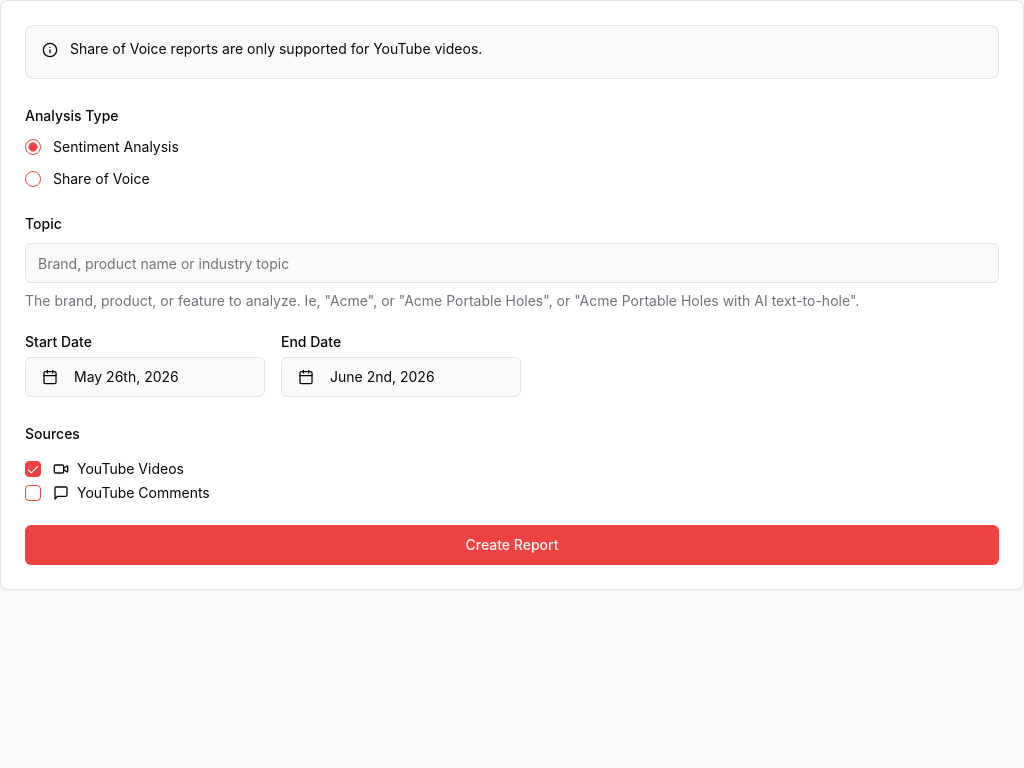
Test: CreateReportForm › should disable non-YouTube Video sources when Share of Voice is selected
Click the 2nd radio button named "Share of Voice" at (33, 179), box [25,171,41,187]
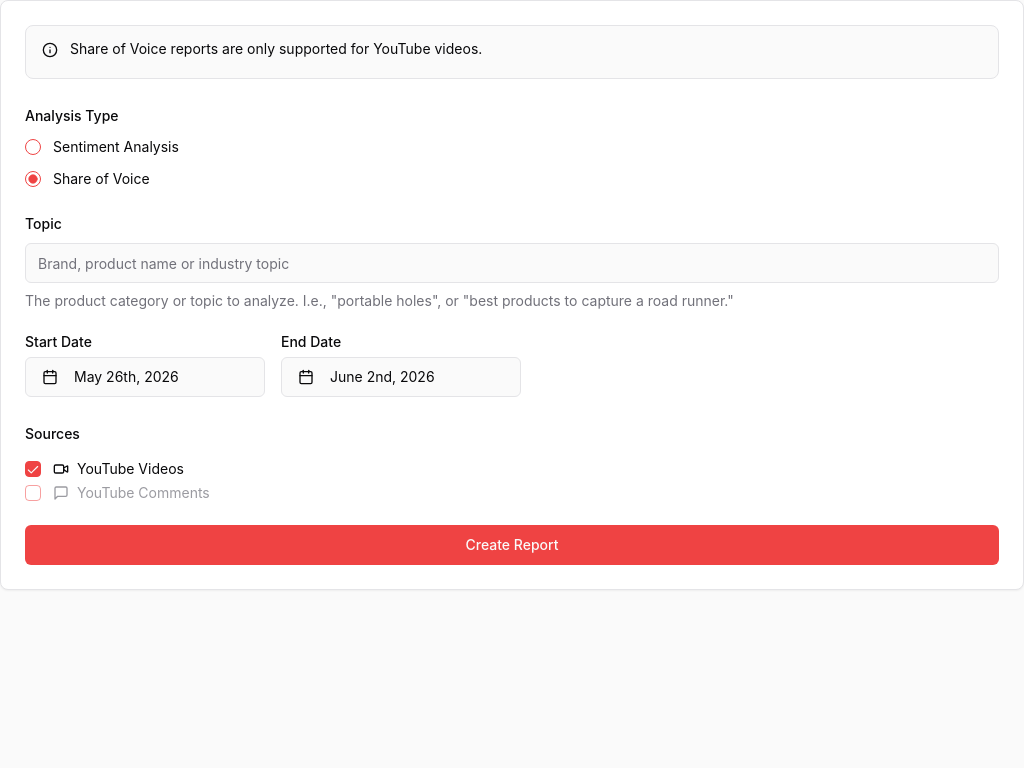
Expected: the 1st checkbox named "YouTube Videos" is enabled, [25,461,41,477]
Expected: the checkbox named "YouTube Comments" next to "YouTube Comments" is disabled, [25,485,41,501]
